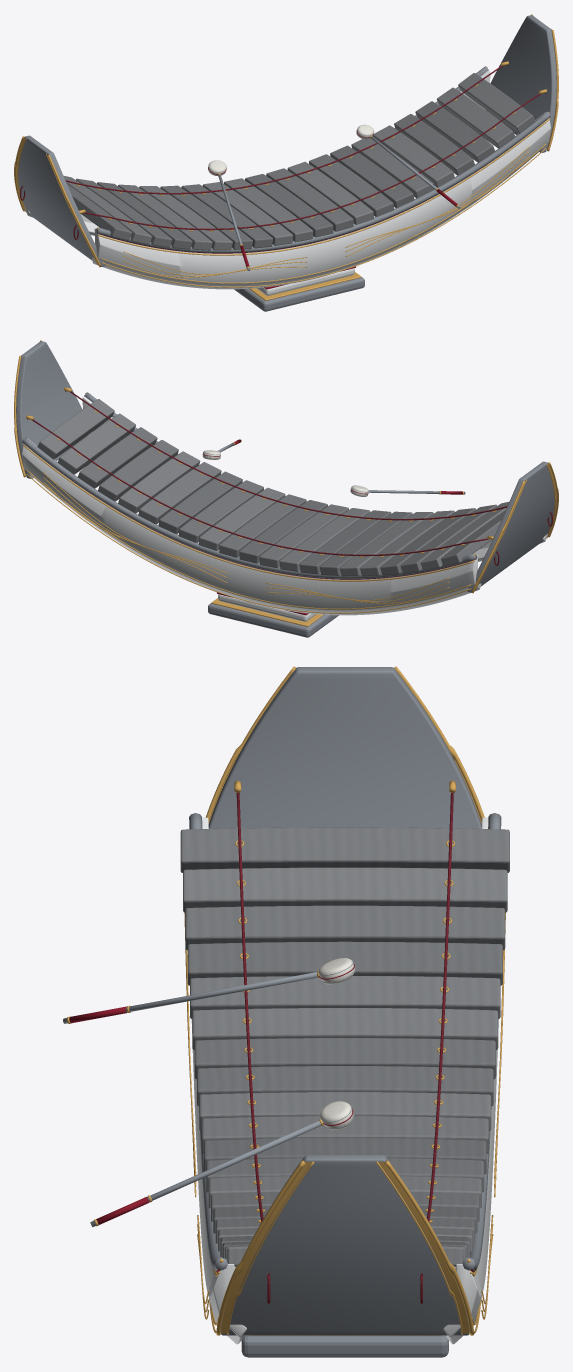
Rendered from ranat-next.glb.
3 renders of one model, top to bottom at view 1: azimuth 30°, elevation 25°; view 2: azimuth 150°, elevation 25°; view 3: azimuth 270°, elevation 25°, orthographic. The views are drawn at different scales.
Parts seen in each view (by area): view 1: body_midnight_jade_lacquer, body_smoked_walnut, body_brushed_champagne_brass, bar_19, bar_20, bar_18, bar_17, bar_16, bar_14, bar_13, bar_12, bar_11 (+15 smaller); view 2: body_midnight_jade_lacquer, body_smoked_walnut, body_brushed_champagne_brass, bar_19, bar_20, bar_18, bar_17, bar_16, bar_15, bar_14, bar_13, bar_12 (+15 smaller); view 3: body_smoked_walnut, bar_00, bar_01, bar_02, bar_03, bar_05, bar_04, bar_06, bar_07, body_brushed_champagne_brass, bar_08, bar_09 (+13 smaller).
Part boxes in pixels (x1,y1,x2,y2): body_midnight_jade_lacquer: (25, 70, 550, 295); body_smoked_walnut: (17, 15, 556, 311); body_brushed_champagne_brass: (14, 14, 558, 300); bar_19: (437, 87, 515, 148); bar_20: (458, 73, 535, 133); bar_18: (415, 101, 494, 162); bar_17: (394, 114, 474, 175); bar_16: (373, 125, 454, 187); bar_14: (330, 145, 414, 208); bar_13: (309, 154, 394, 216); bar_12: (287, 161, 373, 224); bar_11: (266, 168, 353, 231); body_midnight_jade_lacquer: (22, 396, 547, 621); body_smoked_walnut: (16, 341, 555, 637); body_brushed_champagne_brass: (14, 340, 558, 626); bar_19: (57, 413, 135, 474); bar_20: (37, 399, 114, 459); bar_18: (78, 427, 157, 488); bar_17: (98, 440, 178, 501); bar_16: (118, 451, 200, 513); bar_15: (138, 462, 221, 524); bar_14: (158, 471, 242, 534); bar_13: (178, 480, 263, 542); bar_12: (199, 487, 285, 550); body_smoked_walnut: (189, 667, 501, 1357); bar_00: (180, 827, 509, 872); bar_01: (183, 867, 507, 912); bar_02: (185, 905, 505, 950); bar_03: (187, 941, 502, 985); bar_05: (192, 1008, 498, 1050); bar_04: (190, 976, 500, 1018); bar_06: (194, 1038, 495, 1079); bar_07: (197, 1066, 493, 1106); body_brushed_champagne_brass: (184, 666, 505, 1335); bar_08: (199, 1092, 491, 1131); bar_09: (201, 1116, 488, 1153).
Size of the model in its own units: 1.44 by 0.5385 by 0.5495.
8 materials, 1 textured.
